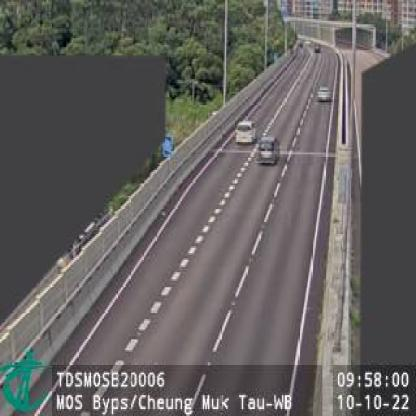Car: (258, 135, 279, 167), (236, 120, 259, 147), (318, 84, 332, 101)
